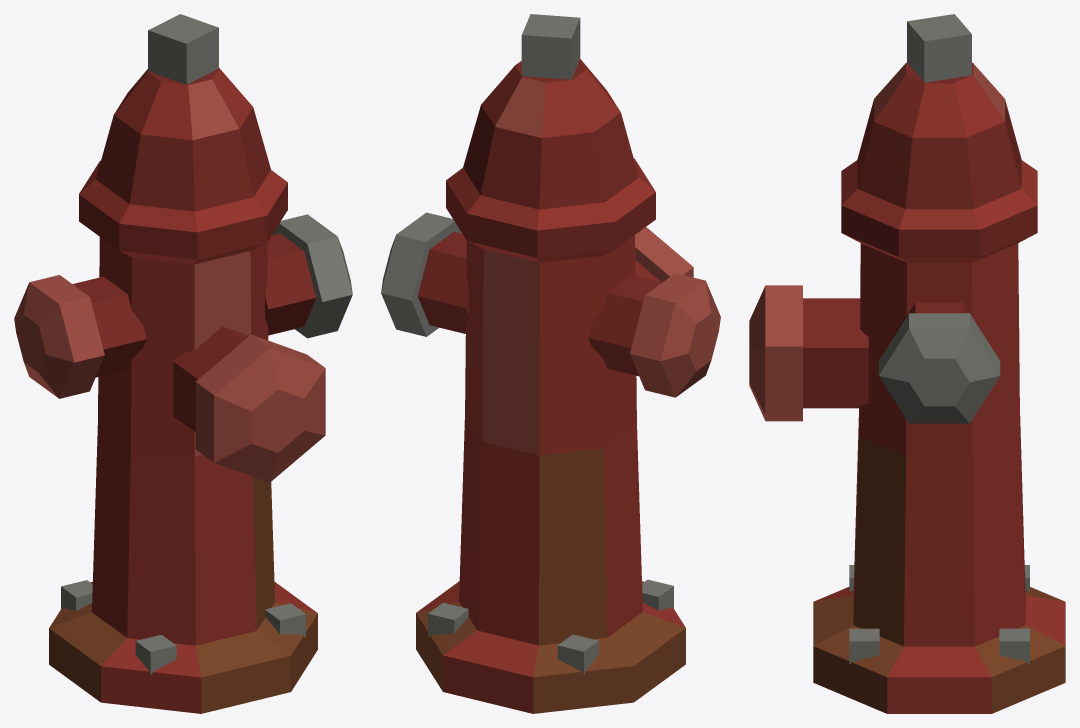
The model's file is hidrante.glb.
The picture shows the model from 3 angles, left to right: view 1: azimuth 30°, elevation 25°; view 2: azimuth 150°, elevation 25°; view 3: azimuth 270°, elevation 25°; orthographic projection.
Parts seen in each view (by area): view 1: hidrante.001; view 2: hidrante.001; view 3: hidrante.001.
Part boxes in pixels (x1,y1,x2,y2): hidrante.001: [14, 14, 352, 713]; hidrante.001: [381, 14, 720, 713]; hidrante.001: [749, 14, 1065, 713].
Size of the model in its own units: 0.35 by 0.69 by 0.3127.
